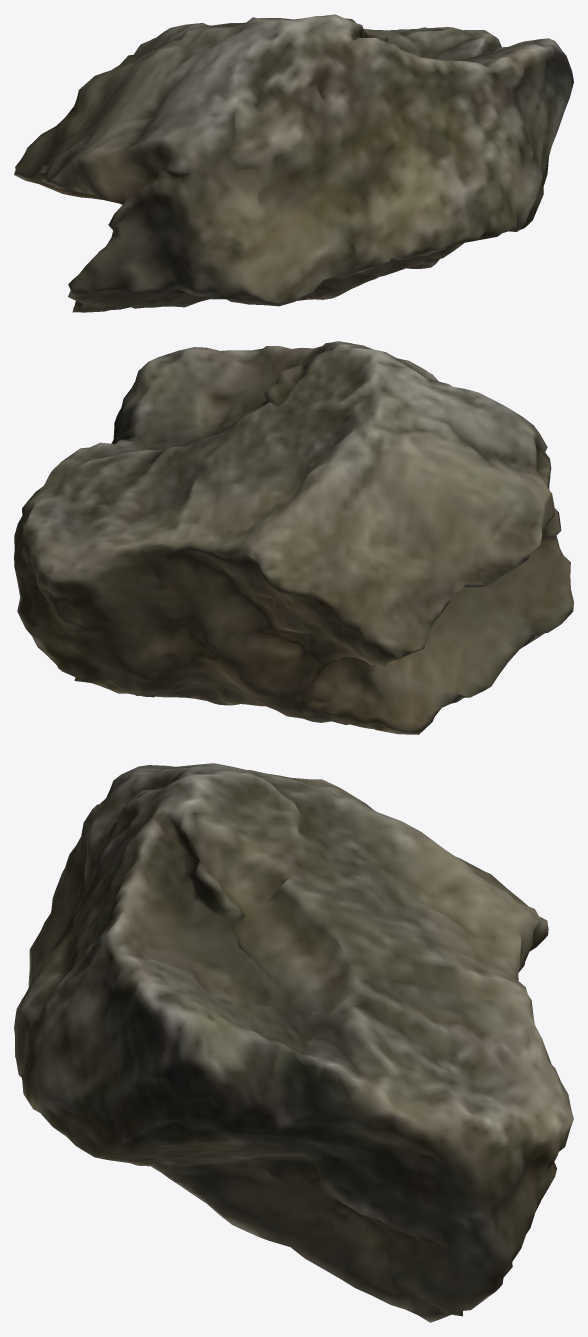
The model's file is rock_moss_set_02_b.gltf.
3 views of the same model, one above another, from view 1: azimuth 30°, elevation 25°; view 2: azimuth 150°, elevation 25°; view 3: azimuth 270°, elevation 25° (orthographic). The views are drawn at different scales.
Parts seen in each view (by area): view 1: rock_moss_set_02_rock11; view 2: rock_moss_set_02_rock11; view 3: rock_moss_set_02_rock11.
Boxes of the visible parts, bbox=[...] form: rock_moss_set_02_rock11: bbox=[14, 14, 573, 312]; rock_moss_set_02_rock11: bbox=[14, 341, 573, 734]; rock_moss_set_02_rock11: bbox=[14, 763, 573, 1322].
Bounding box in the file's own units: 1.95 × 1.31 × 1.53.
Materials: 1 (1 with a texture image).
